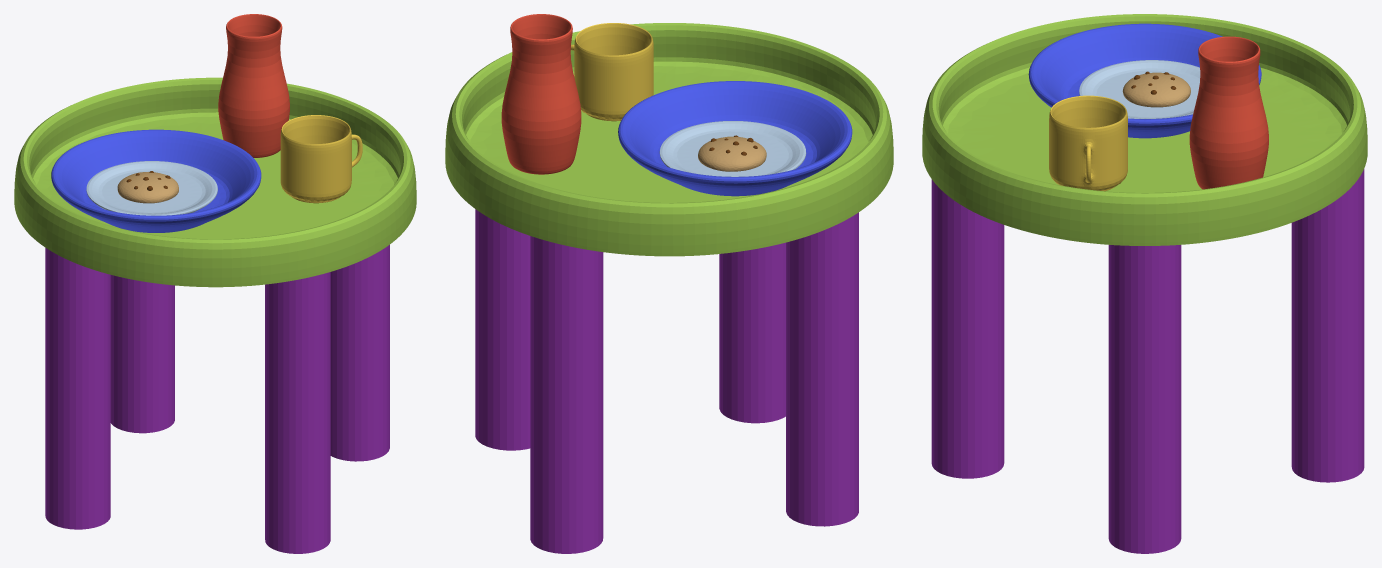
Rendered from tableObj.glb.
3 renders of one model, left to right at view 1: azimuth 30°, elevation 25°; view 2: azimuth 150°, elevation 25°; view 3: azimuth 270°, elevation 25°, orthographic. The views are drawn at different scales.
Visible parts, largest first — view 1: Table; view 2: Table; view 3: Table.
Part boxes in pixels (x1,y1,x2,y2): Table: (14, 14, 416, 553); Table: (445, 14, 893, 553); Table: (922, 14, 1367, 553).
Size of the model in its own units: 12.96 by 14.58 by 12.96.
